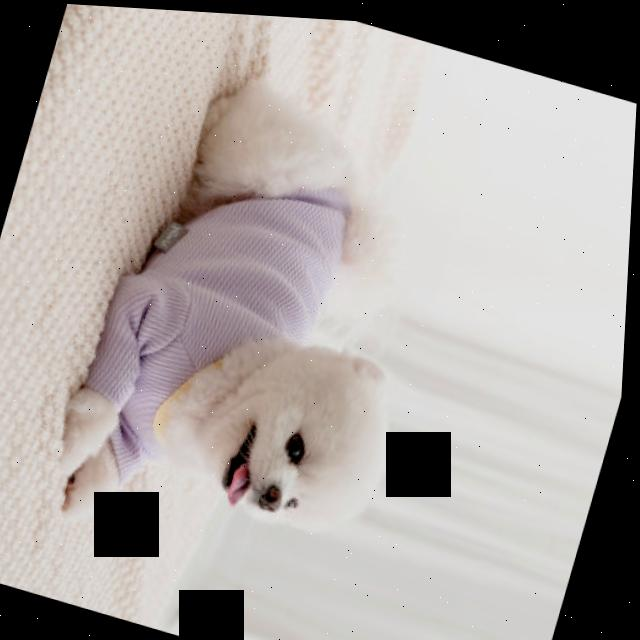cloth: (89, 187, 344, 482)
